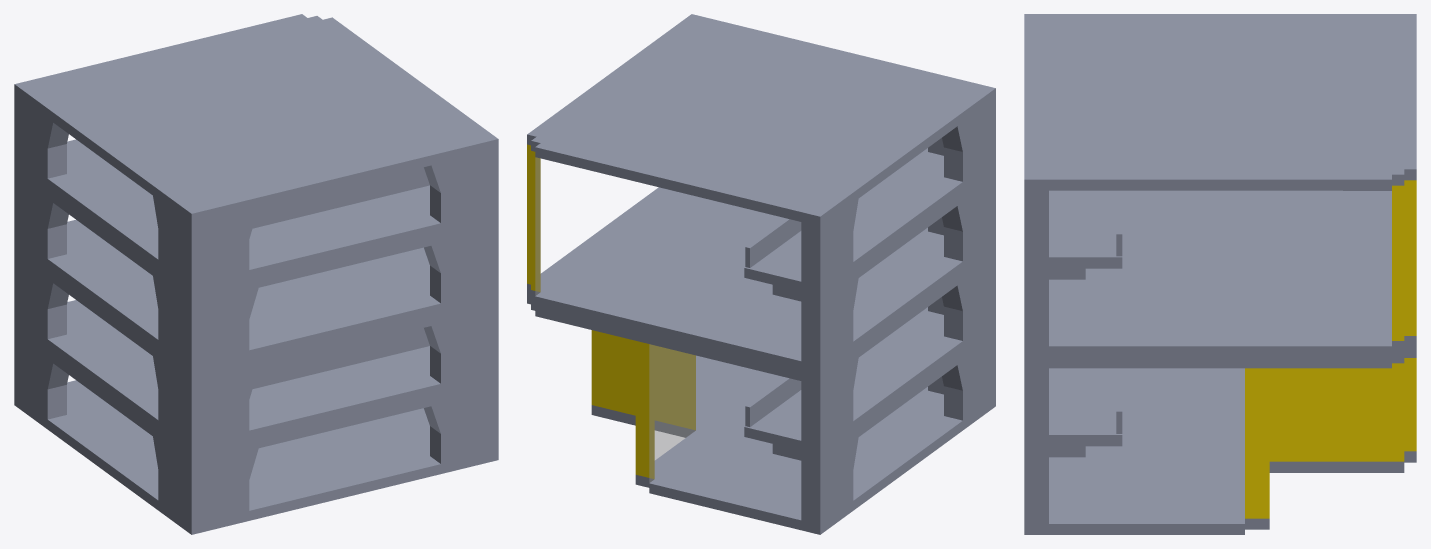
Rendered from bldg_0001_inner corner_v01.gltf.
3 renders of one model, left to right at view 1: azimuth 30°, elevation 25°; view 2: azimuth 150°, elevation 25°; view 3: azimuth 270°, elevation 25°, orthographic. The views are drawn at different scales.
Parts seen in each view (by area): view 1: massing; view 2: massing, windowbottom, windowtop; view 3: massing, windowbottom, windowtop.
Part boxes in pixels (box(x1,y1,x2,y2)): massing: box(14, 14, 498, 534); massing: box(527, 14, 995, 534); windowbottom: box(591, 330, 695, 482); windowtop: box(527, 144, 540, 295); massing: box(1024, 14, 1416, 534); windowbottom: box(1245, 358, 1416, 518); windowtop: box(1392, 180, 1416, 340).
Size of what is drawn, in the model's own units: 16 by 16 by 16.
